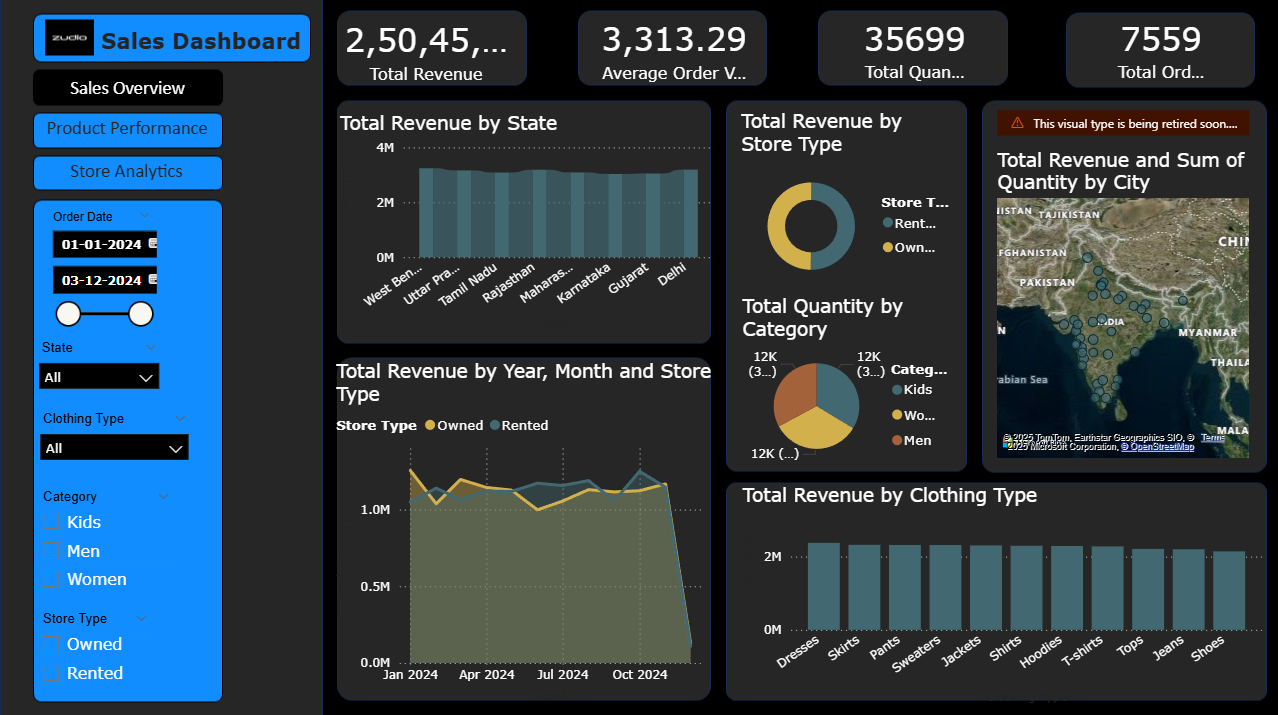

The dashboard page shown, as its layout file describes it:
{"tool":"powerbi","page":{"name":"Page 1","canvas":[1280,720],"ordinal":0},"visuals":[{"type":"card","fields":{"Values":["Zudio_sales_data.Total Revenue"]},"box":[330.5,11,192.7,78],"z":0},{"type":"card","fields":{"Values":["Zudio_sales_data.Average Order Value"]},"box":[593.3,10.7,161.3,76],"z":1000},{"type":"card","fields":{"Values":["Zudio_sales_data.Total Quantity"]},"box":[858.5,11,112.2,75.6],"z":2000},{"type":"card","fields":{"Values":["Zudio_sales_data.Average Order Value"]},"box":[1110.7,10.7,100,74.7],"z":3000},{"type":"areaChart","fields":{"Category":["Zudio_sales_data.Order Date.Variation.Date Hierarchy.Year","Zudio_sales_data.Order Date.Variation.Date Hierarchy.Month"],"Y":["Zudio_sales_data.Total Revenue"],"Series":["Zudio_sales_data.Store Type"]},"box":[330.9,360.5,392.6,348.1],"z":4000},{"type":"map","fields":{"Category":["Zudio_sales_data.City"],"Size":["Zudio_sales_data.Total Revenue"]},"box":[992.7,109.8,262.2,352.4],"z":5000},{"type":"clusteredColumnChart","fields":{"Category":["Zudio_sales_data.Clothing Type"],"Y":["Zudio_sales_data.Total Revenue"]},"box":[737,484,529.6,224.7],"z":6000},{"type":"donutChart","fields":{"Category":["Zudio_sales_data.Store Type"],"Y":["Zudio_sales_data.Total Revenue"]},"box":[736.5,109.5,224.3,187.8],"z":7000},{"type":"ribbonChart","fields":{"Category":["Zudio_sales_data.State"],"Y":["Zudio_sales_data.Total Revenue"]},"box":[335.4,111,384.1,225.6],"z":8000},{"type":"textbox","box":[40.3,70.8,170.8,40.3],"z":9000},{"type":"textbox","box":[29.3,111,204.9,43.9],"z":10000},{"type":"textbox","box":[40.3,155.6,158.3,37.5],"z":11000},{"type":"textbox","box":[29.2,22.2,283.3,48.6],"z":12000},{"type":"slicer","fields":{"Values":["Zudio_sales_data.State"]},"box":[29.3,334.7,140,72],"z":13000},{"type":"slicer","fields":{"Values":["Zudio_sales_data.Store Type"]},"box":[30.5,606.1,129.3,93.9],"z":14000},{"type":"pieChart","fields":{"Category":["Zudio_sales_data.Category"],"Y":["Zudio_sales_data.Total Quantity"]},"box":[737,295.1,223.5,177.8],"z":15000},{"type":"slicer","fields":{"Values":["Zudio_sales_data.Category"]},"box":[30.5,484.1,151.2,128],"z":16000},{"type":"slicer","fields":{"Values":["Zudio_sales_data.Order Date"]},"box":[40.2,204.9,122,129.3],"z":17000},{"type":"slicer","fields":{"Values":["Zudio_sales_data.Clothing Type"]},"box":[30.5,406.1,168.3,64.6],"z":18000},{"type":"actionButton","box":[44.4,111.1,166.7,38.9],"z":19000},{"type":"actionButton","box":[44.4,155.6,166.7,38.9],"z":20000}]}

Visuals, with their boxes on the page's 1280x720 design canvas (x1, y1, x2, y2). These are canvas units, not pixel positions in the 1278x715 screenshot, which may show the page scaled, cropped or inside an application window:
card - Zudio_sales_data.Total Revenue: 330,11,523,89
card - Zudio_sales_data.Average Order Value: 593,11,755,87
card - Zudio_sales_data.Total Quantity: 858,11,971,87
card - Zudio_sales_data.Average Order Value: 1111,11,1211,85
areaChart - Zudio_sales_data.Order Date.Variation.Date Hierarchy.Year x Zudio_sales_data.Order Date.Variation.Date Hierarchy.Month: 331,360,724,709
map - Zudio_sales_data.City x Zudio_sales_data.Total Revenue: 993,110,1255,462
clusteredColumnChart - Zudio_sales_data.Clothing Type x Zudio_sales_data.Total Revenue: 737,484,1267,709
donutChart - Zudio_sales_data.Store Type x Zudio_sales_data.Total Revenue: 736,110,961,297
ribbonChart - Zudio_sales_data.State x Zudio_sales_data.Total Revenue: 335,111,720,337
textbox: 40,71,211,111
textbox: 29,111,234,155
textbox: 40,156,199,193
textbox: 29,22,312,71
slicer - Zudio_sales_data.State: 29,335,169,407
slicer - Zudio_sales_data.Store Type: 30,606,160,700
pieChart - Zudio_sales_data.Category x Zudio_sales_data.Total Quantity: 737,295,960,473
slicer - Zudio_sales_data.Category: 30,484,182,612
slicer - Zudio_sales_data.Order Date: 40,205,162,334
slicer - Zudio_sales_data.Clothing Type: 30,406,199,471
actionButton: 44,111,211,150
actionButton: 44,156,211,194
